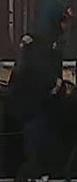gloves: (58, 79, 77, 101)
vest: (6, 27, 62, 111)
